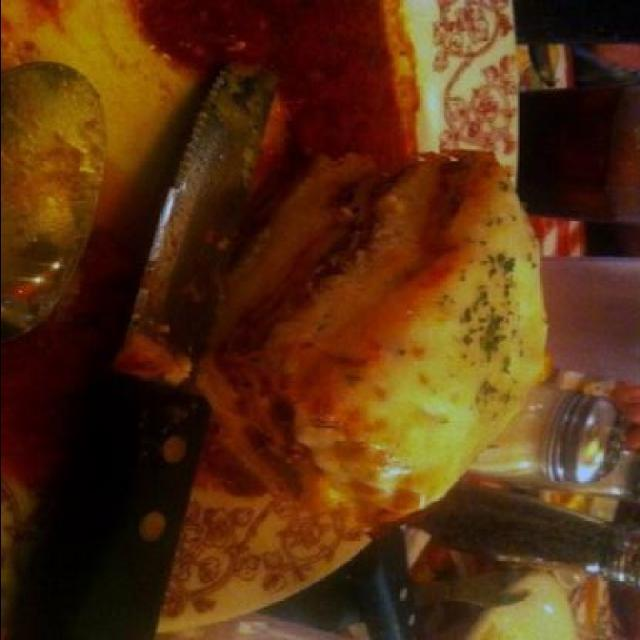Lasagna: (106, 112, 570, 558)
